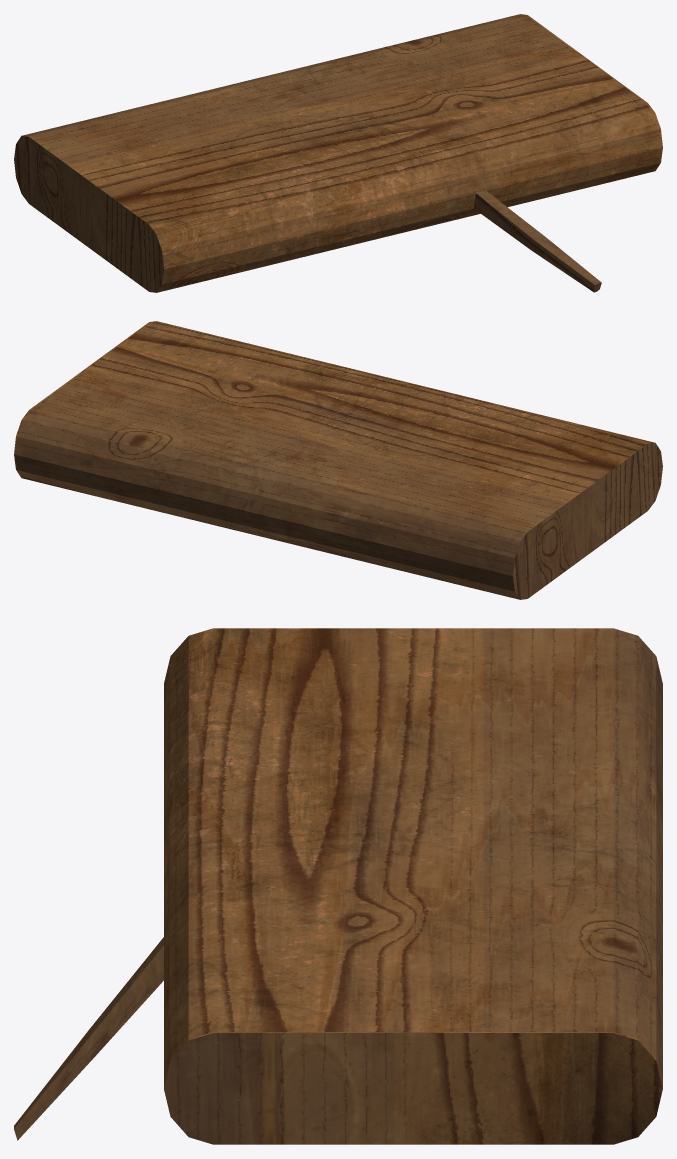
Rendered from woodcolor.fbx.
3 renders of one model, top to bottom at view 1: azimuth 30°, elevation 25°; view 2: azimuth 150°, elevation 25°; view 3: azimuth 270°, elevation 25°, orthographic. The views are drawn at different scales.
Visible parts, largest first — view 1: wood; view 2: wood; view 3: wood.
Part boxes in pixels (<box>): wood: <box>14,14,662,292</box>; wood: <box>14,321,662,599</box>; wood: <box>14,628,662,1144</box>.
Size of the model in its own units: 19.35 by 4.4 by 13.11.
